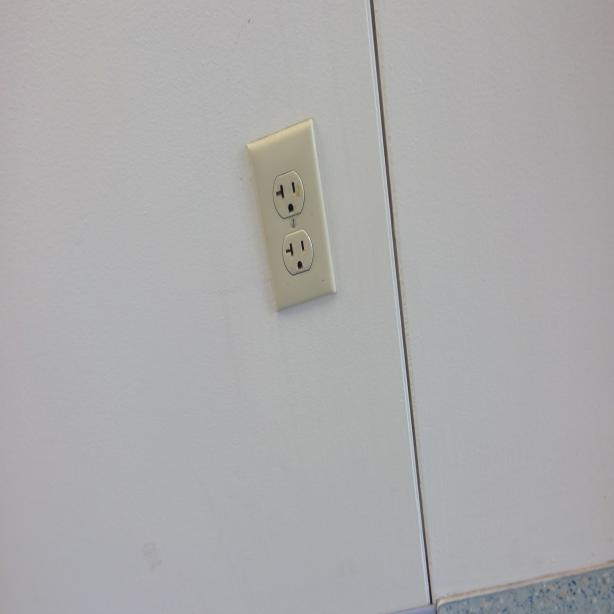typeb: (282, 231, 313, 278), (274, 171, 304, 218)
